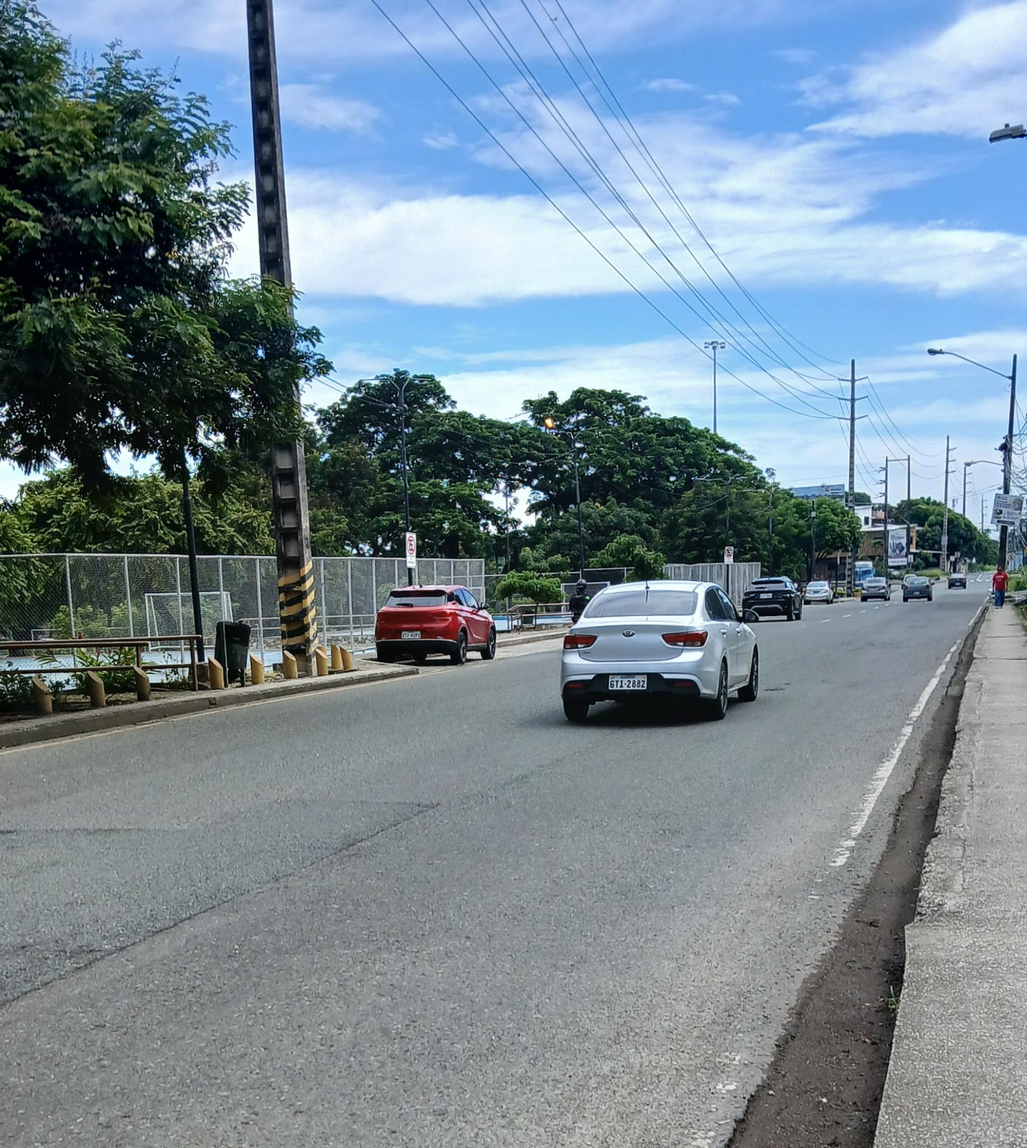license_plate: (607, 674, 646, 690), (401, 630, 421, 638), (759, 592, 771, 597)
